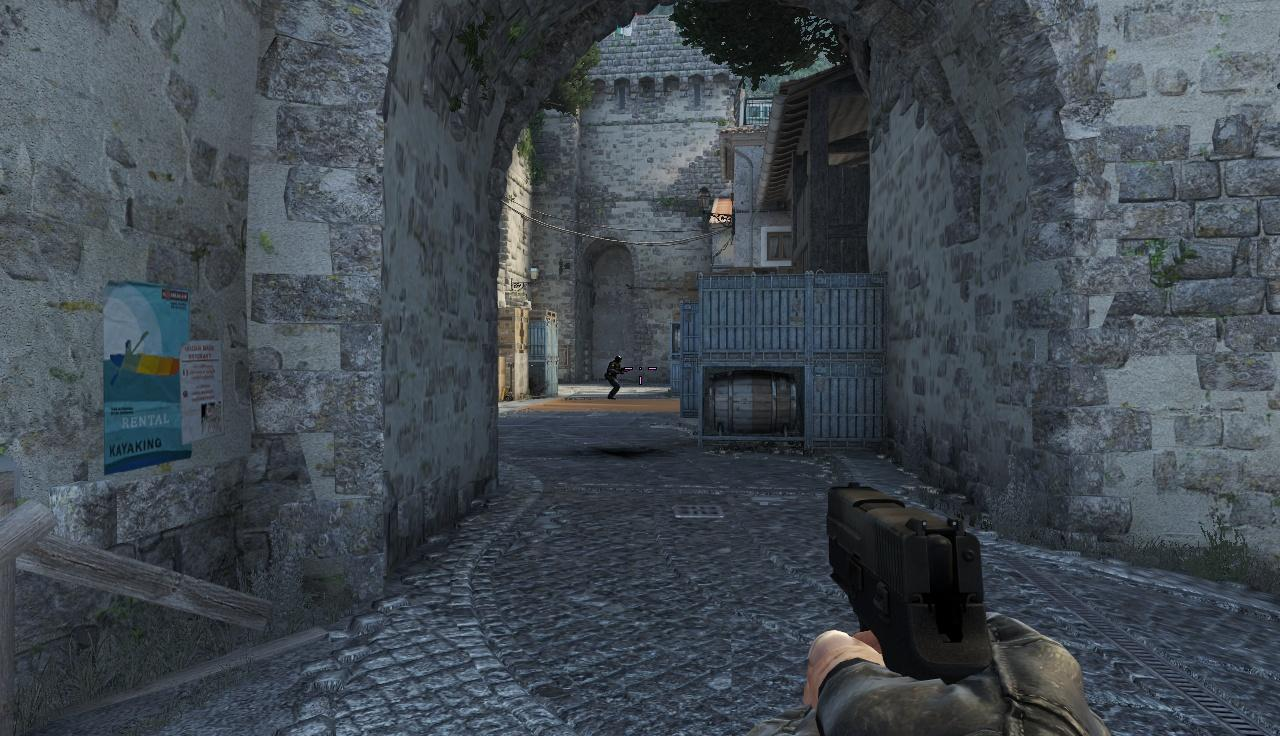ct: (609, 355, 626, 397)
cthead: (616, 357, 621, 366), (616, 358, 622, 365)
pistol: (811, 484, 1077, 736)
